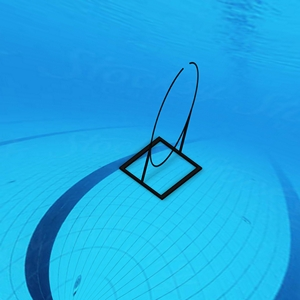circle: (118, 58, 214, 205)
